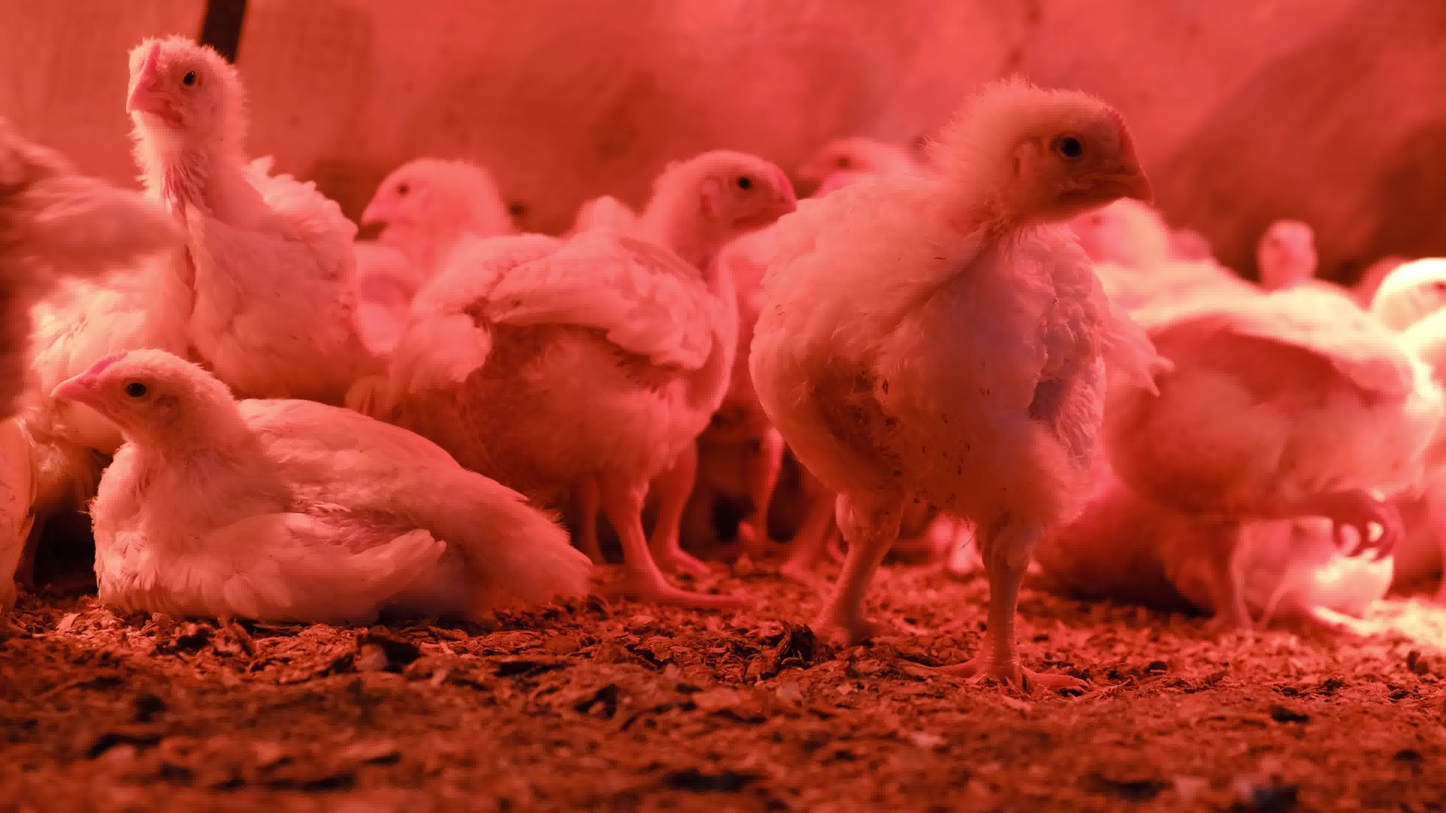AbNormal: (57, 343, 590, 627), (1162, 501, 1407, 628)
Normal: (748, 78, 1156, 685), (387, 153, 802, 608), (1109, 253, 1446, 655), (28, 32, 364, 401), (361, 158, 522, 306), (1064, 192, 1171, 282), (801, 136, 915, 214), (1256, 215, 1322, 300)
